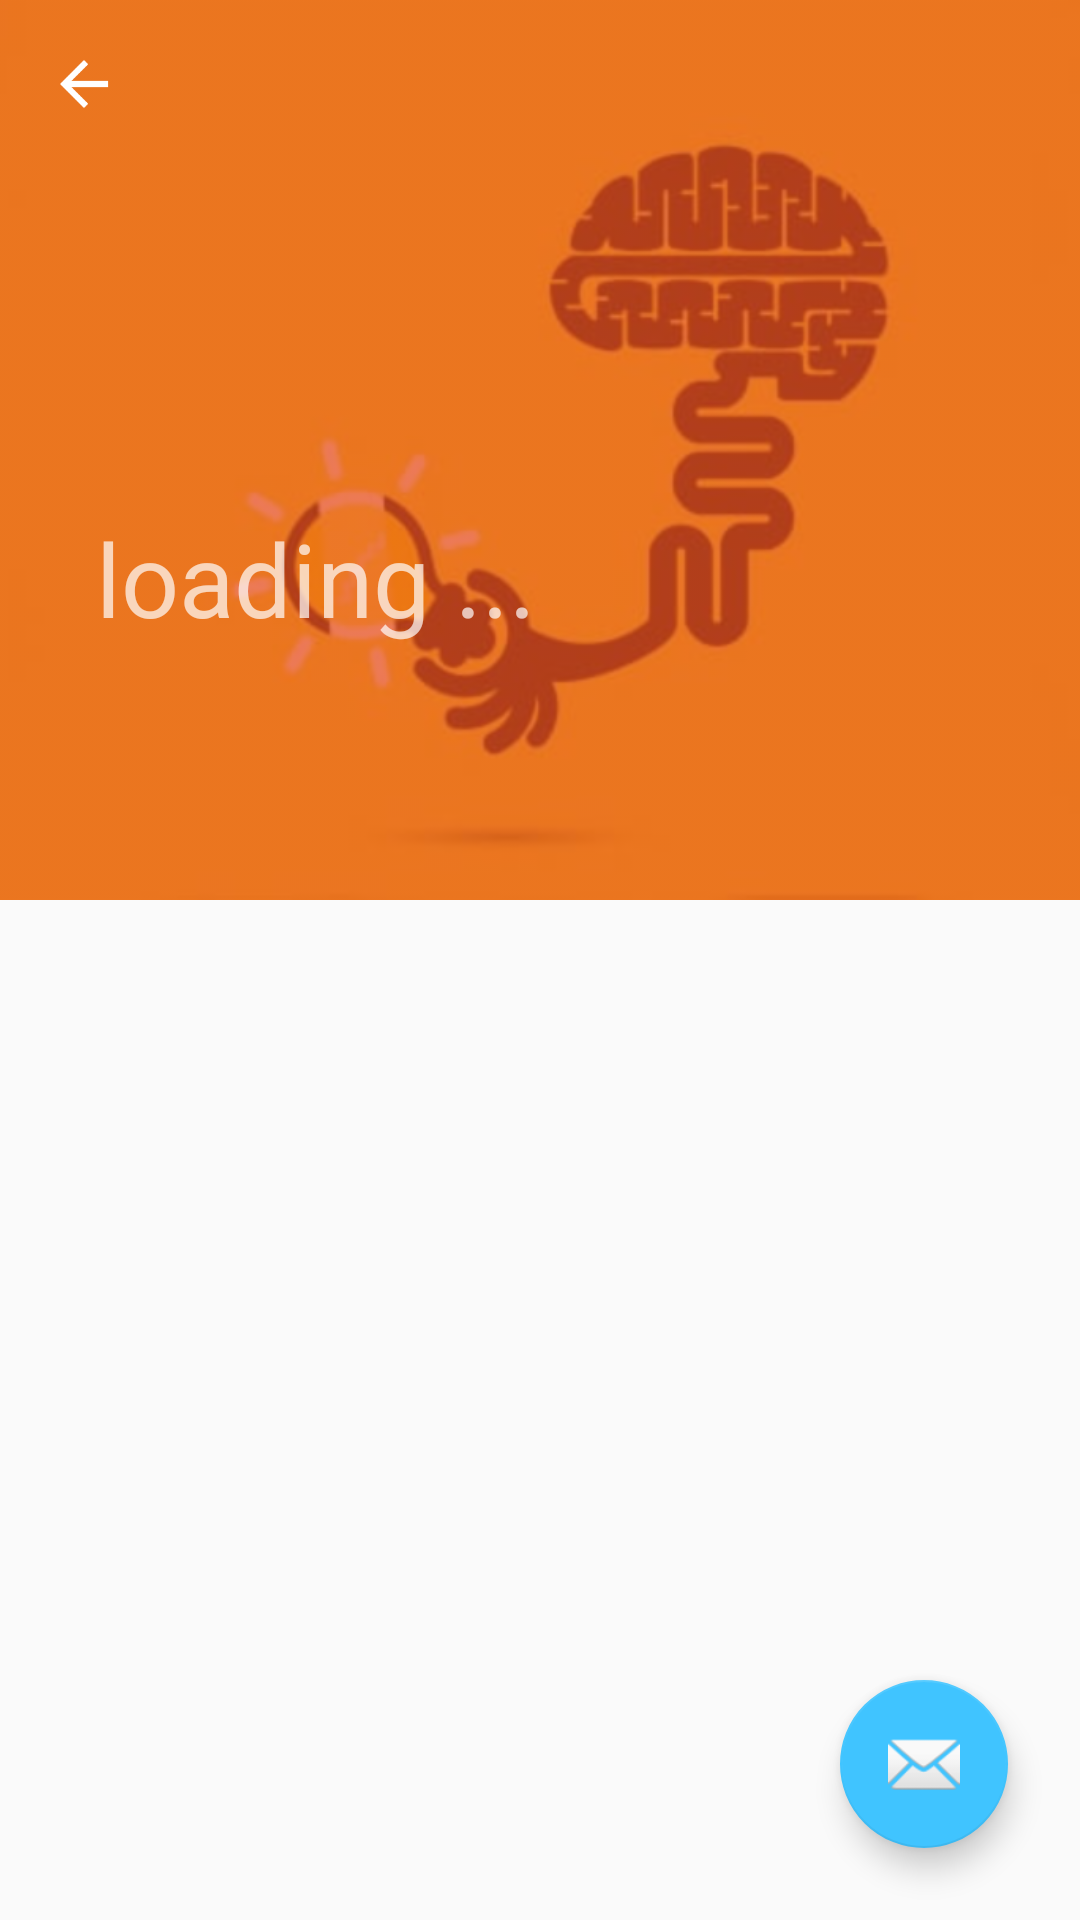

Icon click points for this 1080x1920 phone screenshot, format point (x, y):
email: point (924, 1764)
